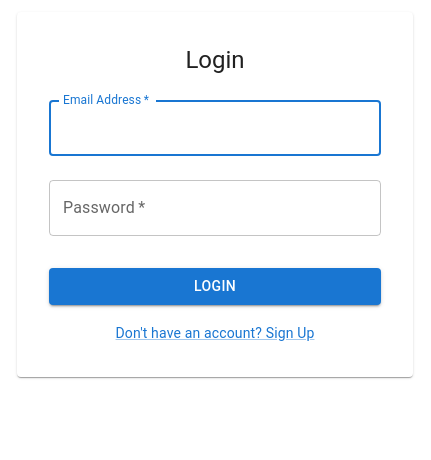
Test: Login Page › displays error message on failed login
Type "test@example.com" into the field labelled "Email Address *".
click(215, 128); type("test@example.com")  # box [49,100,381,156]
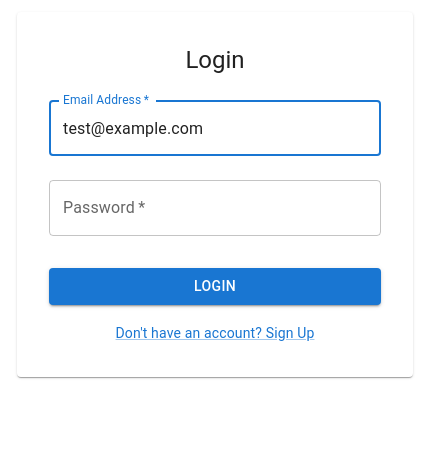
Type "wrongpassword" into the password field labelled "Password *".
click(215, 208); type("wrongpassword")  # box [49,180,381,236]
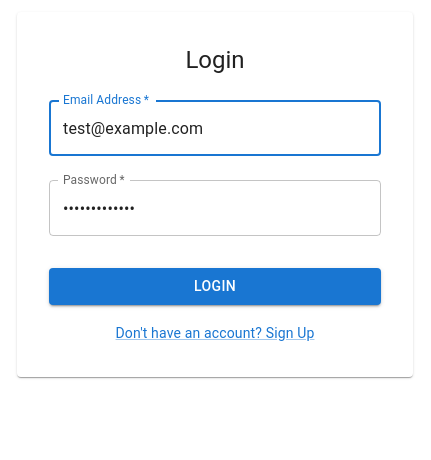
Click the button "Login".
click(215, 287)  # box [49,268,381,305]
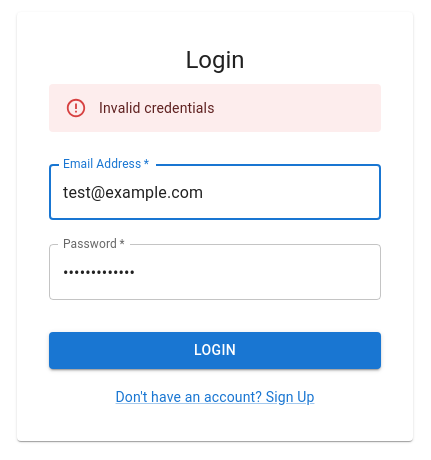
Result: the text "Invalid credentials" is shown at [99,100,214,116]
